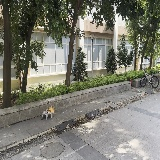fire: (47, 106, 55, 113)
